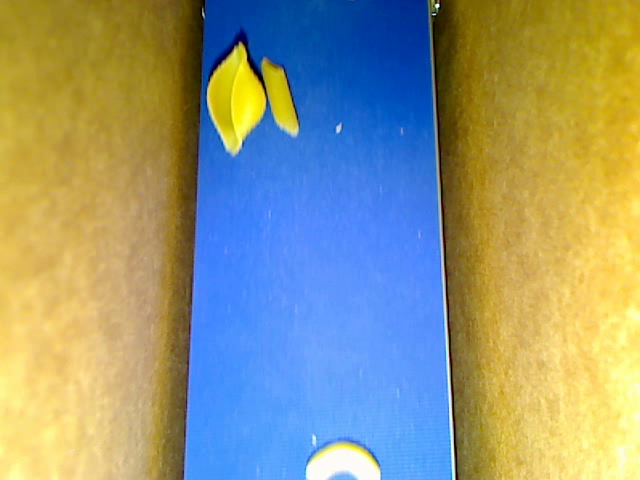elbow: (305, 439, 380, 479)
penne: (262, 58, 298, 136)
shell: (207, 43, 266, 156)
